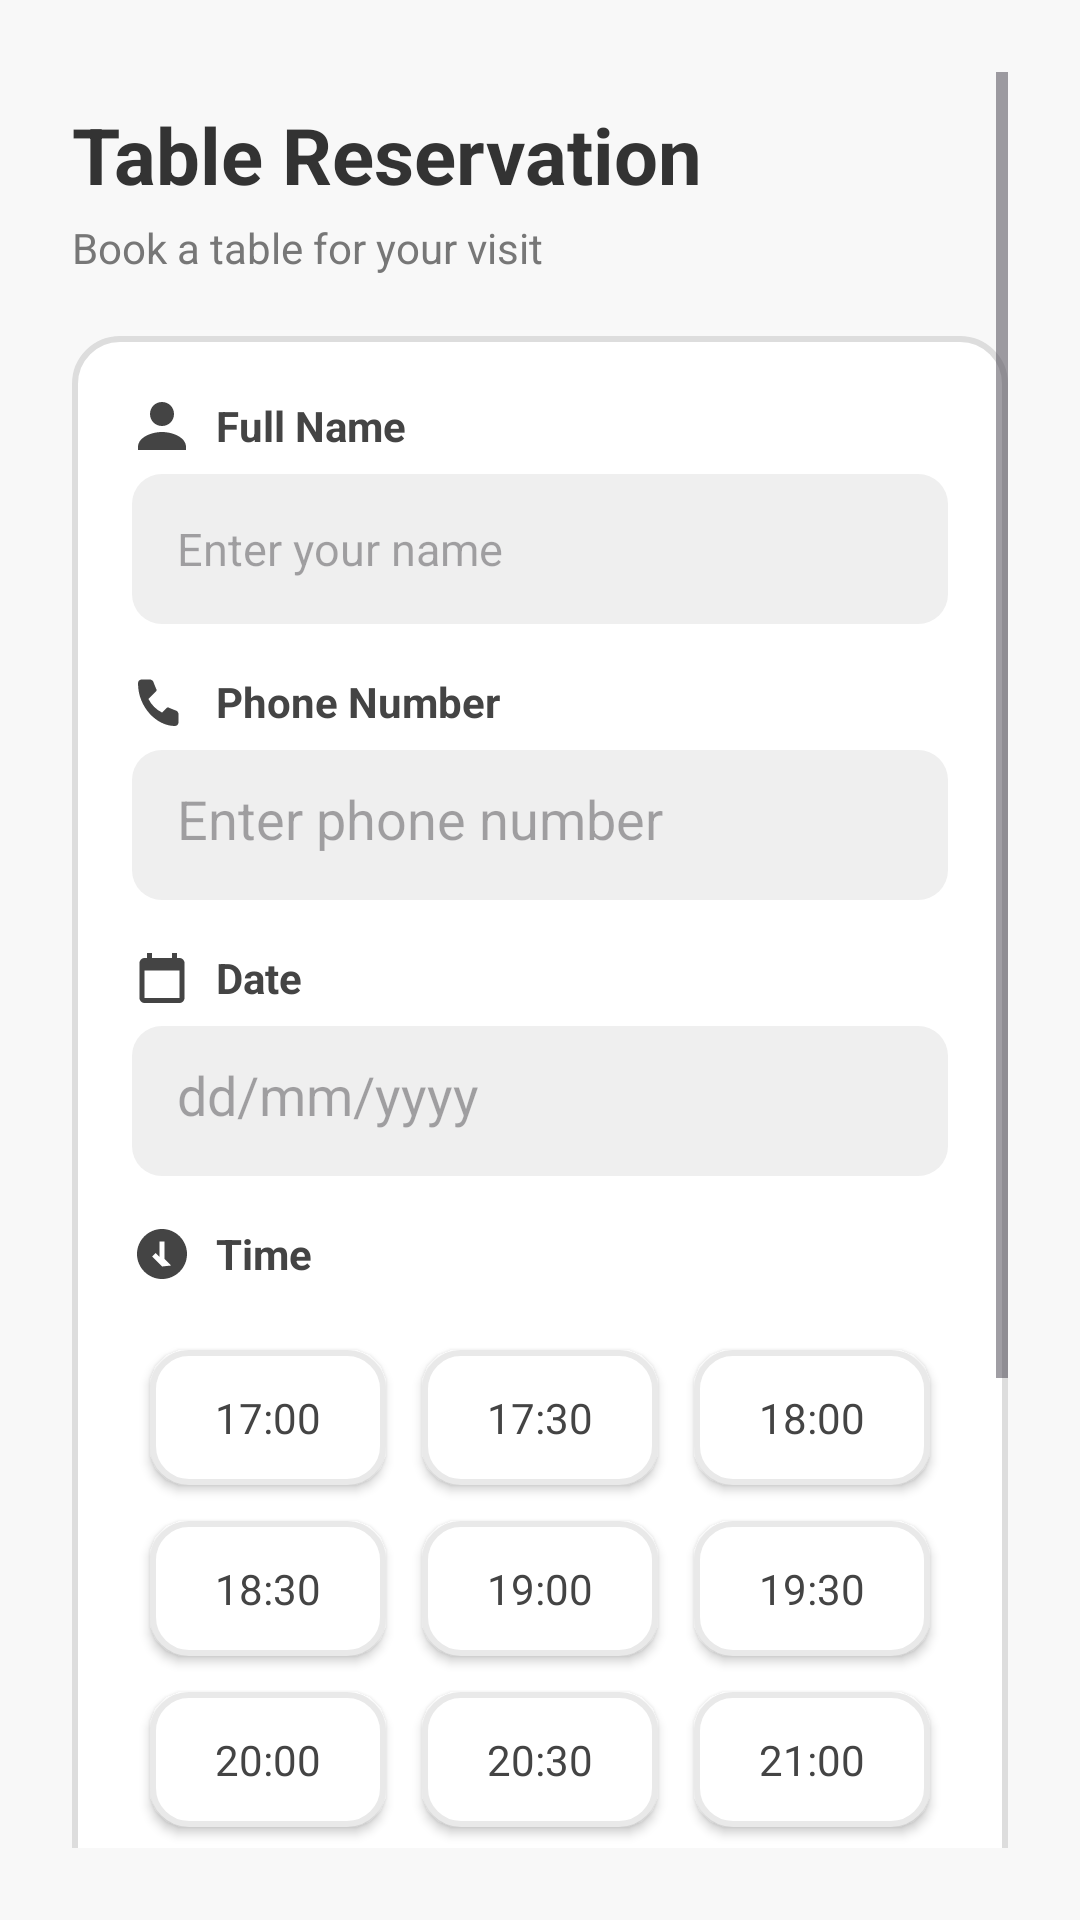

Icon bounding boxes for this 1080x1920 phone screenshot, format Rect(x1, y1, x2, y2):
calendar today: Rect(139, 953, 185, 1003)
person: Rect(138, 402, 186, 450)
